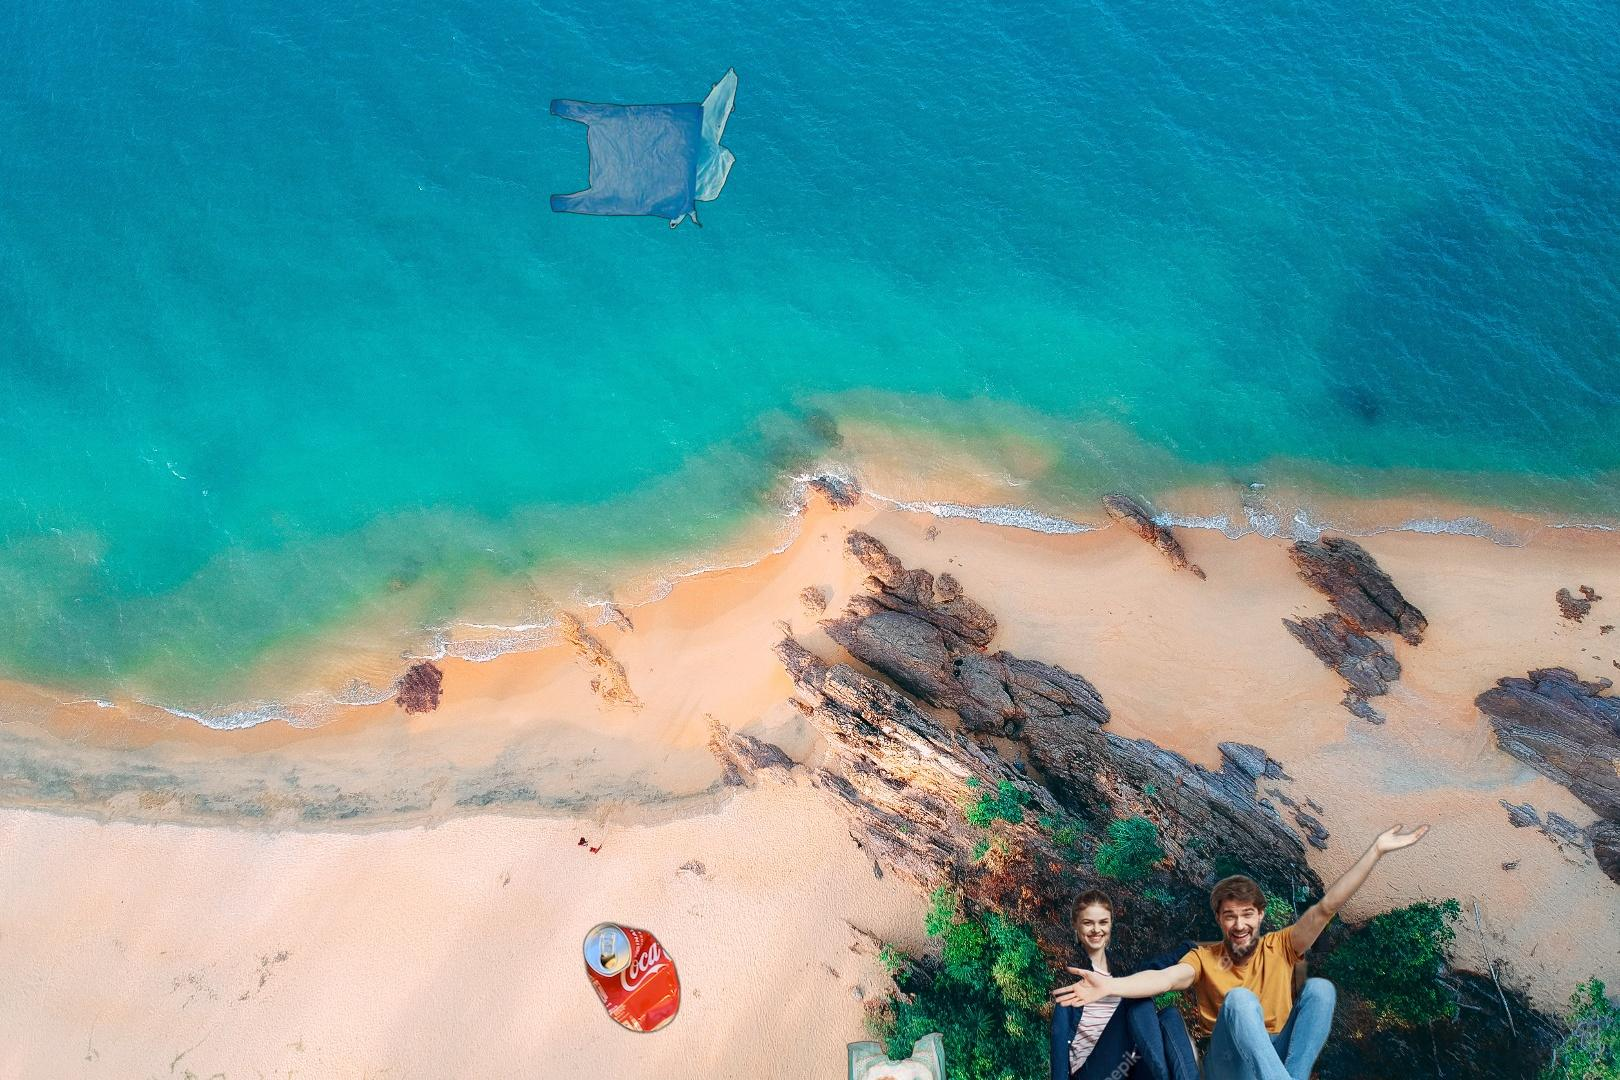metal-cans: (403, 470, 685, 1038)
paper-bag: (1583, 112, 1620, 412)
plastic-bag: (547, 65, 739, 230)
trash: (844, 1008, 951, 1080)
trashbox-cardboard: (1014, 804, 1436, 1080)
